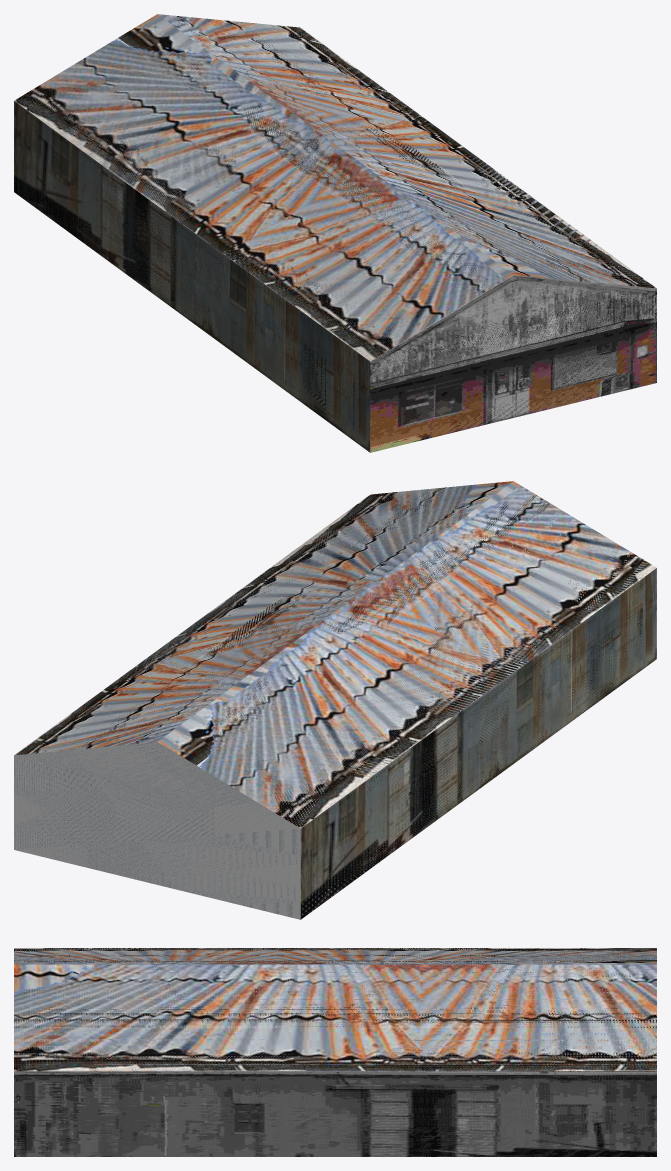
The model's file is Corrugated Metal Warehouse.fbx.
The picture shows the model from 3 angles, top to bottom: view 1: azimuth 30°, elevation 25°; view 2: azimuth 150°, elevation 25°; view 3: azimuth 270°, elevation 25°; orthographic projection. The views are drawn at different scales.
Visible parts, largest first — view 1: Model; view 2: Model; view 3: Model.
Part boxes in pixels (box(x1,y1,x2,y2)): Model: box(14, 14, 656, 452); Model: box(14, 481, 656, 919); Model: box(14, 948, 656, 1156).
Size of the model in its own units: 163 by 77.75 by 351.
